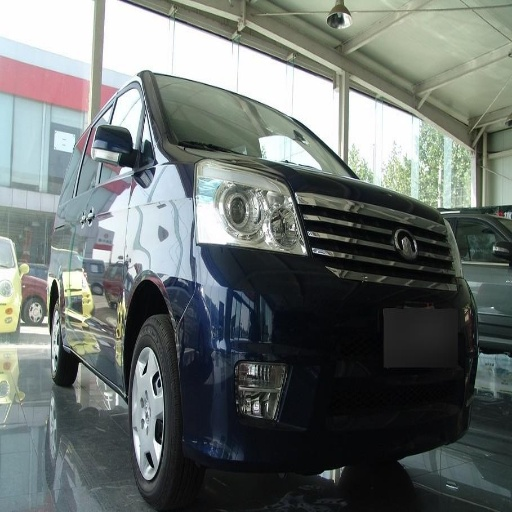front_bumper: (186, 178, 457, 470)
front_right_door: (117, 85, 155, 188)
front_right_light: (197, 157, 306, 255)
